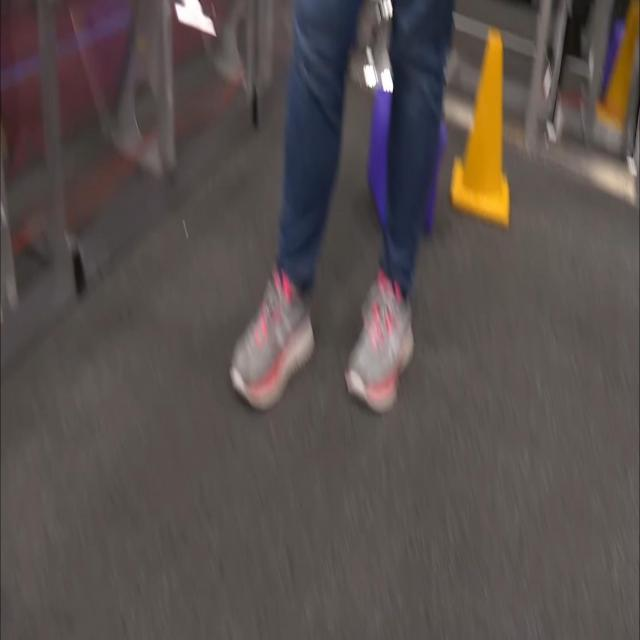frc_cone: (452, 32, 510, 230), (601, 1, 640, 123)
frc_cube: (369, 96, 437, 227), (605, 20, 621, 90)
